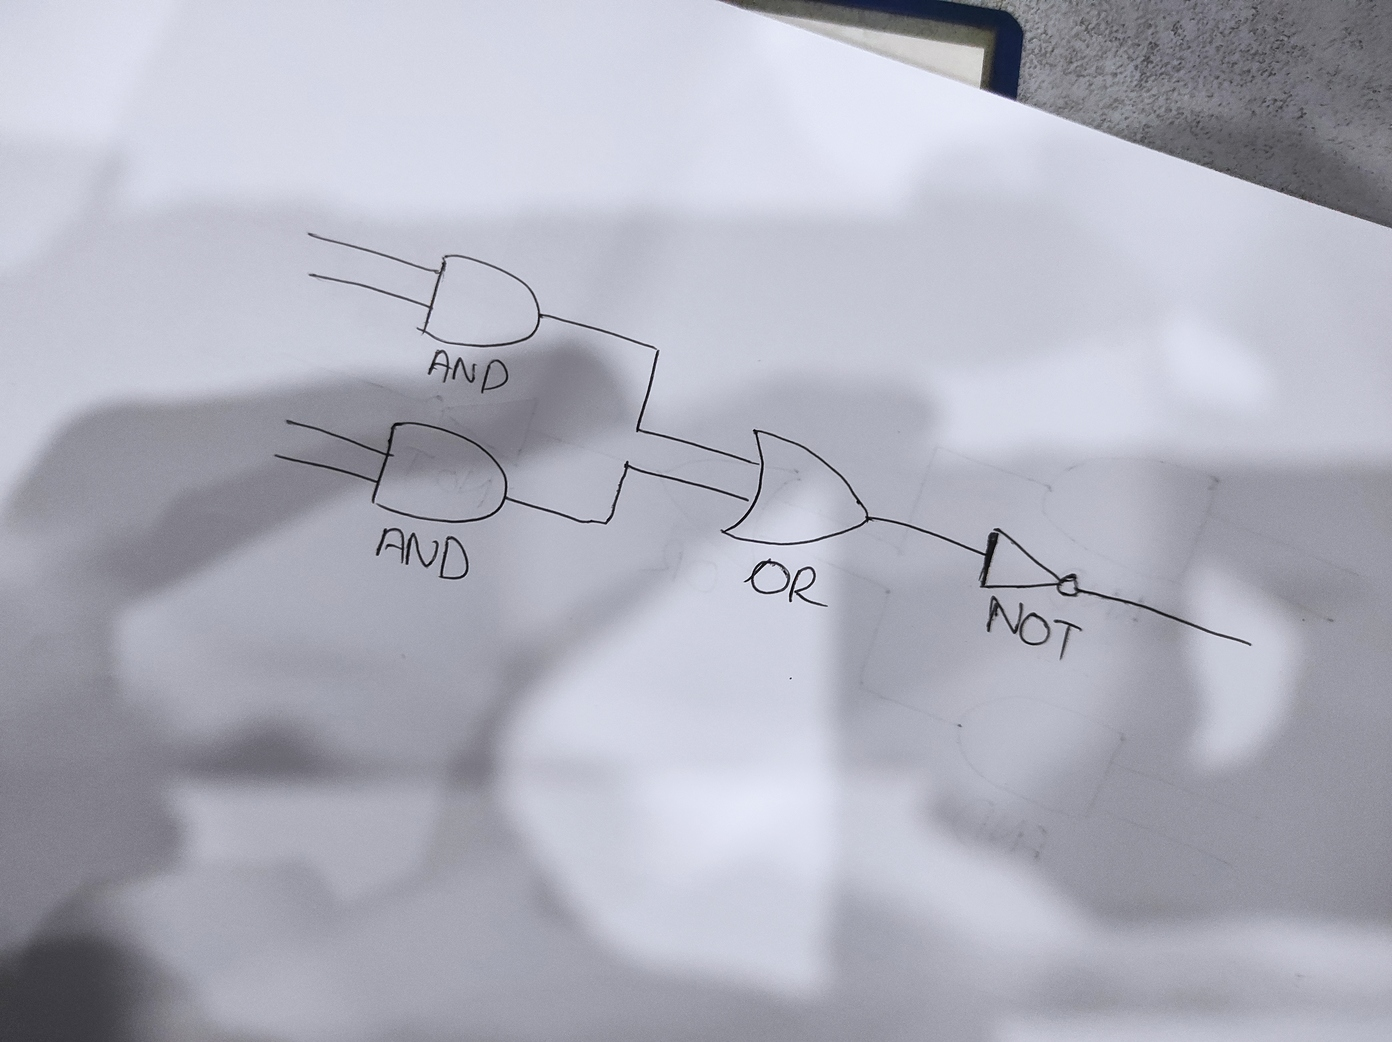and: (368, 420, 512, 524), (415, 251, 544, 350)
junction: (643, 337, 668, 363), (598, 511, 617, 533), (619, 456, 633, 475), (630, 422, 643, 439)
not: (974, 523, 1083, 600)
or: (718, 426, 875, 548)
terminal: (1240, 637, 1258, 651), (269, 448, 285, 463), (303, 269, 320, 282), (302, 227, 317, 240), (281, 415, 295, 428)
text: (983, 593, 1086, 663), (371, 525, 472, 583), (742, 556, 830, 607), (424, 347, 513, 396)
